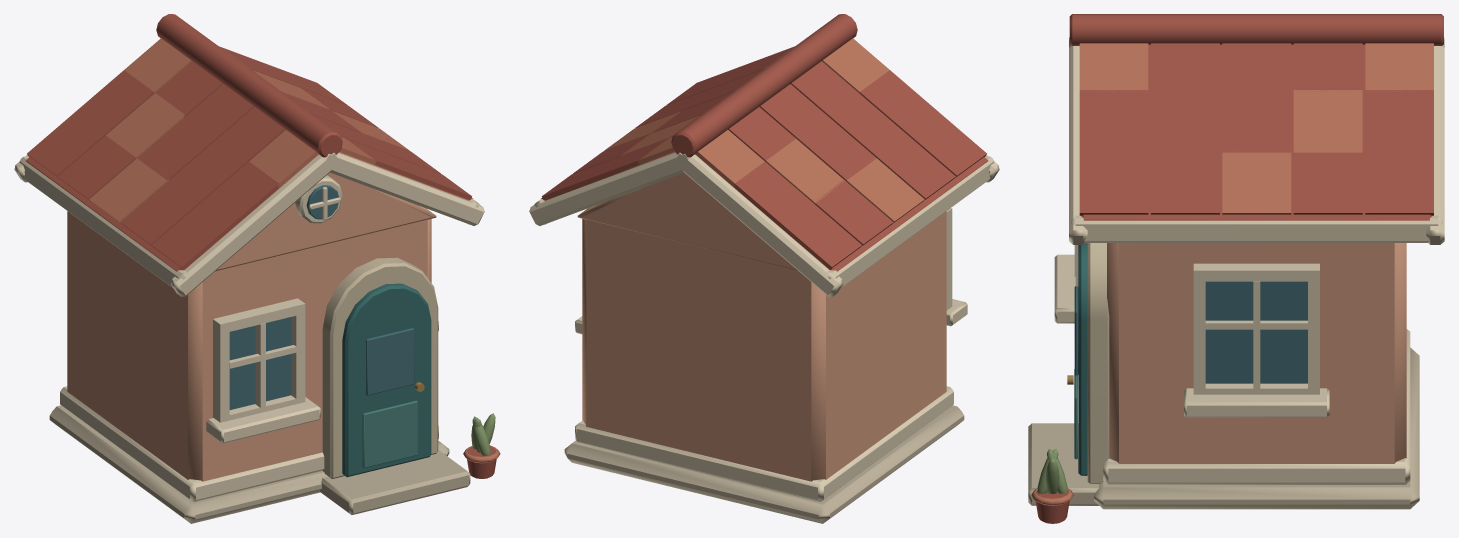
File: house_level_1.glb
The picture shows the model from 3 angles, left to right: view 1: azimuth 30°, elevation 25°; view 2: azimuth 150°, elevation 25°; view 3: azimuth 270°, elevation 25°; orthographic projection. The views are drawn at different scales.
Parts seen in each view (by area): view 1: house_level_1_runtime; view 2: house_level_1_runtime; view 3: house_level_1_runtime.
Boxes of the visible parts, bbox=[...] form: house_level_1_runtime: bbox=[14, 14, 500, 523]; house_level_1_runtime: bbox=[529, 14, 999, 523]; house_level_1_runtime: bbox=[1028, 14, 1444, 523].
Bounding box in the file's own units: 2.9 × 3.28 × 2.92.
